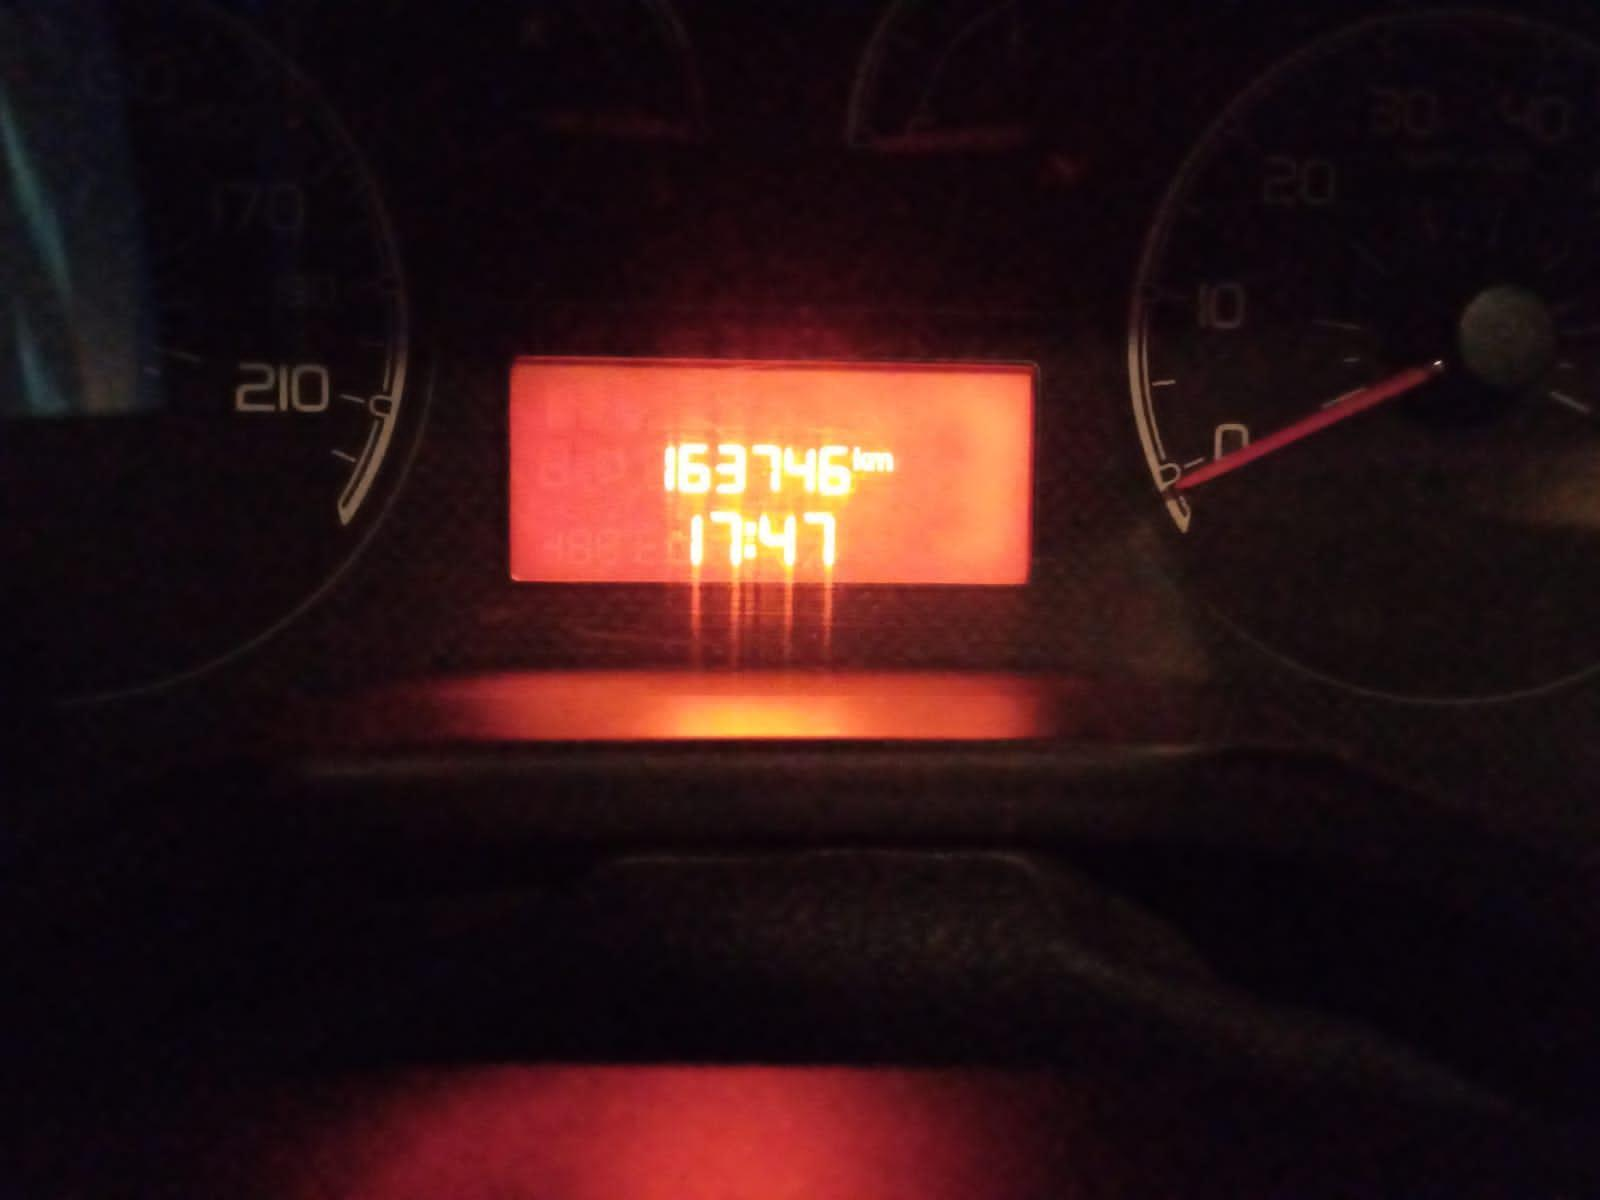1: (661, 442, 679, 494), (687, 509, 703, 563)
3: (716, 444, 745, 495)
4: (756, 511, 797, 570), (785, 446, 815, 495)
6: (680, 442, 712, 494), (818, 447, 850, 495)
7: (702, 507, 745, 570), (748, 440, 787, 507), (800, 511, 840, 568)
X: (869, 447, 894, 475), (745, 517, 758, 563), (850, 446, 867, 475)
odometer: (490, 349, 1044, 599)
